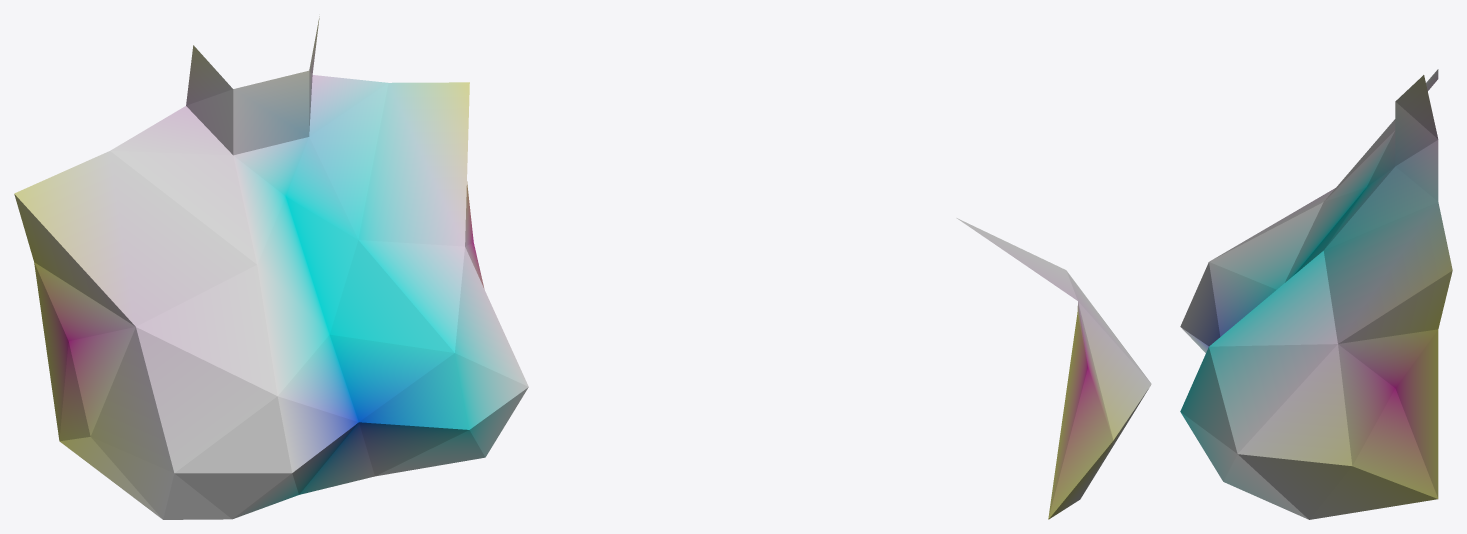
3 views of the same model, side by side, from view 1: azimuth 30°, elevation 25°; view 2: azimuth 150°, elevation 25°; view 3: azimuth 270°, elevation 25° (orthographic). The views are drawn at different scales.
Parts seen in each view (by area): view 1: model_116D; view 2: model_116D; view 3: model_116D.
Part boxes in pixels (box(x1,y1,x2,y2)): model_116D: box(14, 16, 528, 519); model_116D: box(956, 218, 1151, 519); model_116D: box(1180, 69, 1452, 519).
Bounding box in the file's own units: 36 × 31 × 19.
